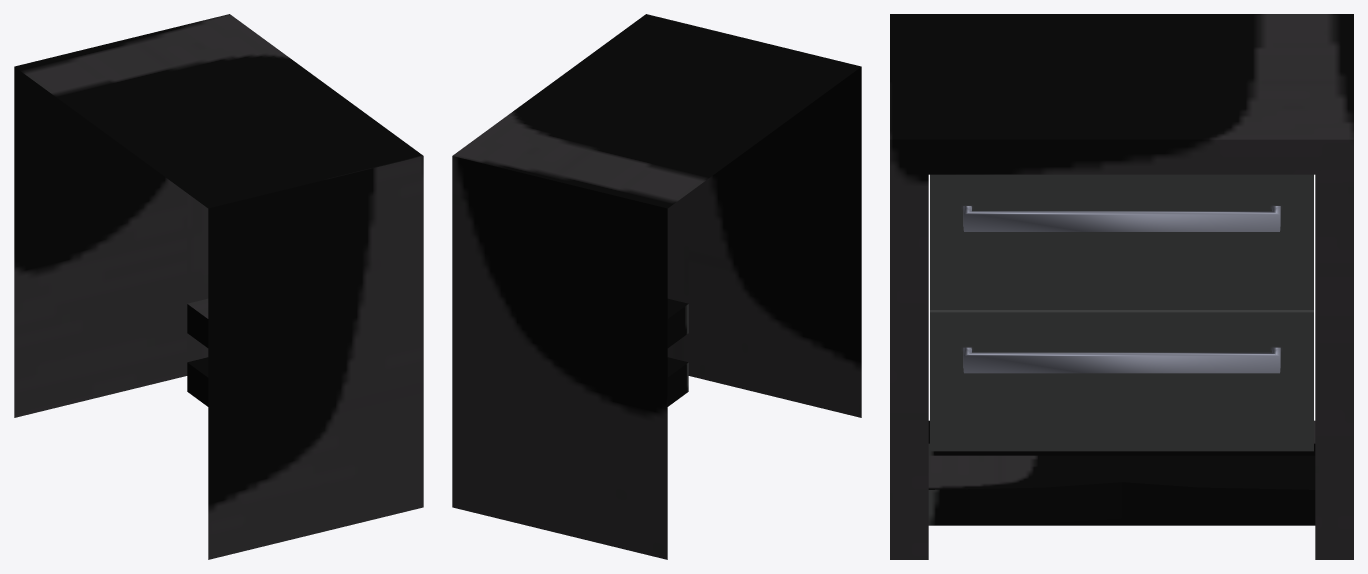
Rendered from Küchentheke_Gerade.fbx.
3 views of the same model, side by side, from view 1: azimuth 30°, elevation 25°; view 2: azimuth 150°, elevation 25°; view 3: azimuth 270°, elevation 25° (orthographic). The views are drawn at different scales.
Parts seen in each view (by area): view 1: Küchentheke_1_gerade_low1; view 2: Küchentheke_1_gerade_low1; view 3: Küchentheke_1_gerade_low1.
Part boxes in pixels (x1,y1,x2,y2): Küchentheke_1_gerade_low1: [14, 14, 423, 559]; Küchentheke_1_gerade_low1: [452, 14, 861, 559]; Küchentheke_1_gerade_low1: [890, 14, 1353, 559].
Bounding box in the file's own units: 67.06 × 100 × 100.
1 material, 1 textured.
